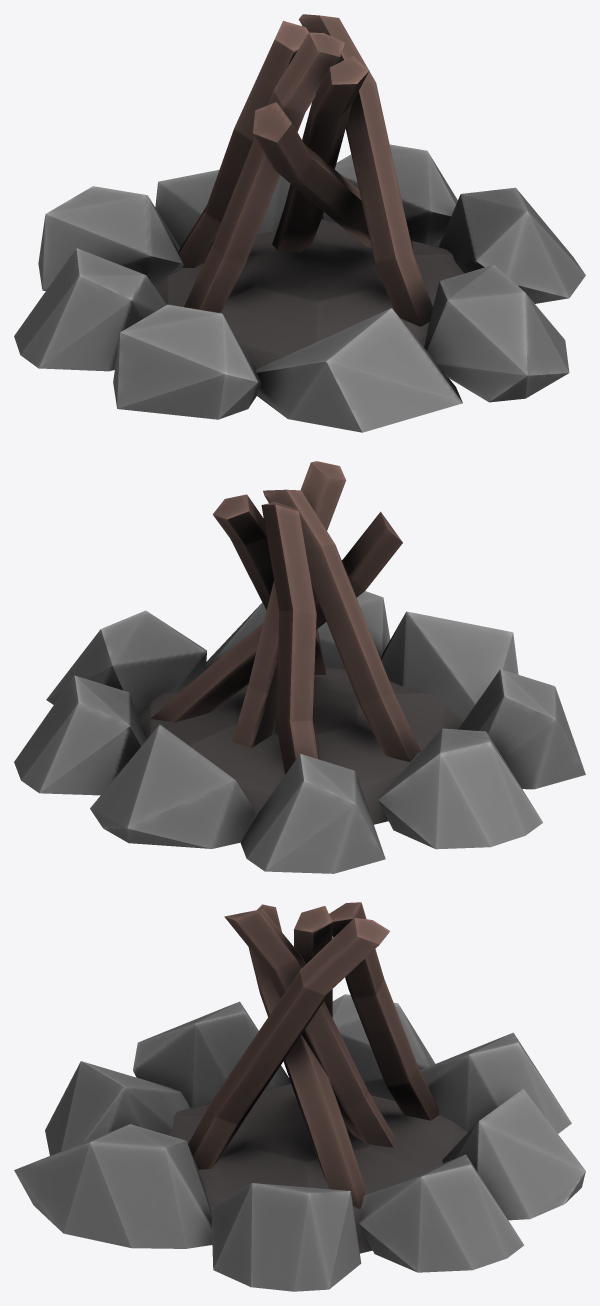
The model's file is Props_4.fbx.
3 renders of one model, top to bottom at view 1: azimuth 30°, elevation 25°; view 2: azimuth 150°, elevation 25°; view 3: azimuth 270°, elevation 25°, orthographic. The views are drawn at different scales.
Visible parts, largest first — view 1: Props_4; view 2: Props_4; view 3: Props_4.
Boxes of the visible parts, x1,y1,x2,y2 form: Props_4: (14,14,585,432); Props_4: (14,461,585,873); Props_4: (14,902,585,1291).
Size of the model in its own units: 25.03 by 12.7 by 24.6.
